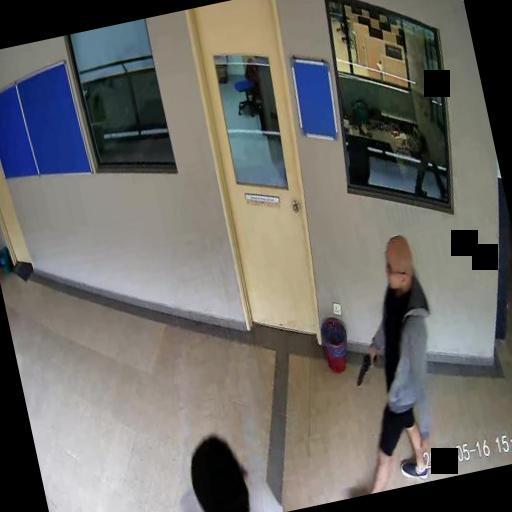Handgun: (350, 349, 380, 386)
